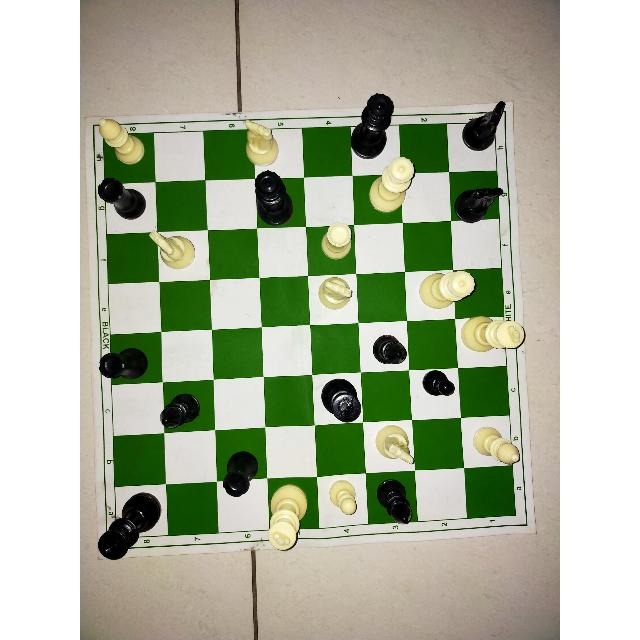black-bishop: (373, 477, 419, 529), (154, 389, 203, 432), (368, 331, 407, 369)
black-king: (97, 491, 163, 560), (317, 376, 363, 424)
black-knight: (458, 98, 513, 153), (446, 183, 509, 225)
black-pawn: (418, 361, 458, 404)
black-queen: (347, 90, 396, 160), (252, 168, 296, 229)
black-rook: (95, 173, 147, 223), (220, 443, 257, 503), (96, 345, 151, 381)
white-bishop: (96, 118, 148, 168), (470, 423, 528, 467)
white-king: (266, 478, 310, 554), (457, 312, 527, 358)
white-knight: (144, 221, 199, 273), (371, 419, 420, 469), (238, 116, 280, 168), (315, 274, 357, 316)
white-pawn: (323, 477, 366, 521)
white-queen: (365, 154, 420, 217), (415, 268, 478, 311)
white-rook: (318, 222, 358, 263)
